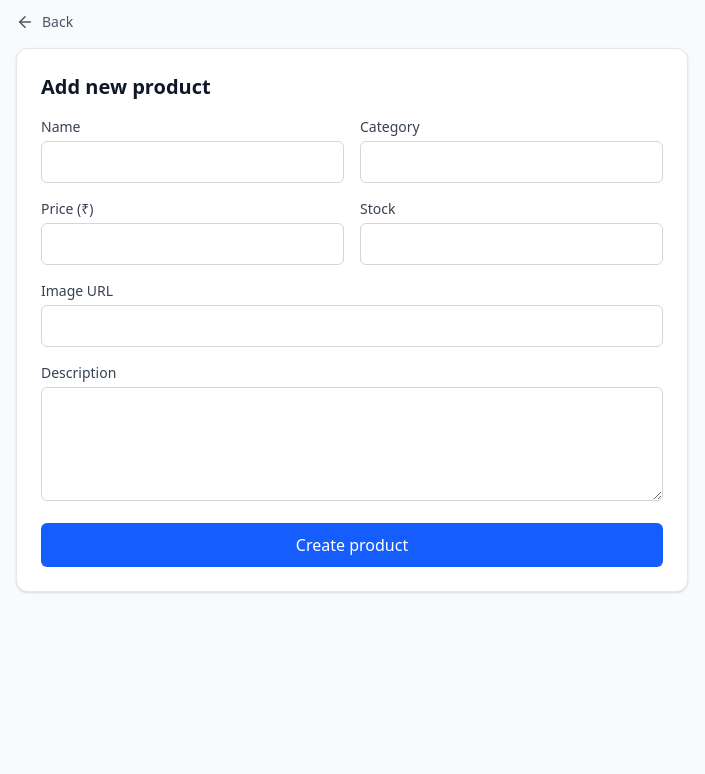
Scenario: ProductFormPage › add mode › validation › rejects an invalid price ("-5")
This screenshot has width=705, height=774.
Type "Monitor" into the field below "Name". click: (192,162)
box: top-left (41, 141), bottom-right (344, 183)
Type "electronics" into the field below "Category". click: (512,162)
box: top-left (360, 141), bottom-right (663, 183)
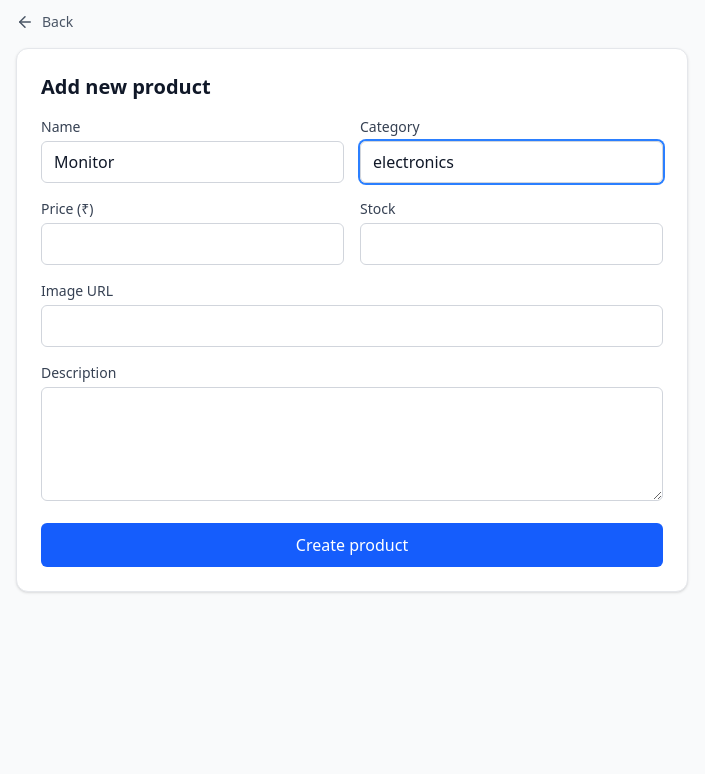
Type "-5" into the number field below "Price (₹)". click: (192,244)
box: top-left (41, 223), bottom-right (344, 265)
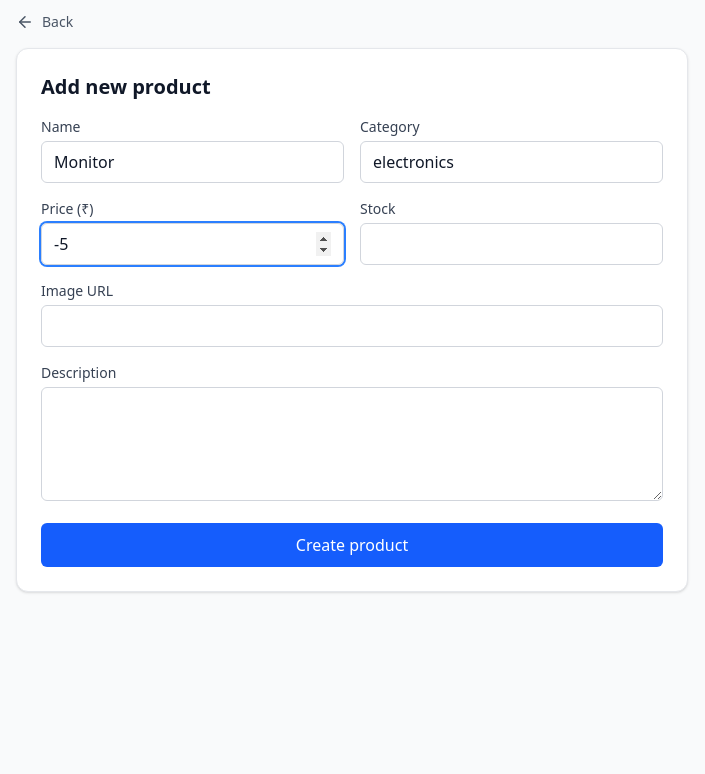
Type "7" into the number field below "Stock". click: (512,244)
box: top-left (360, 223), bottom-right (663, 265)
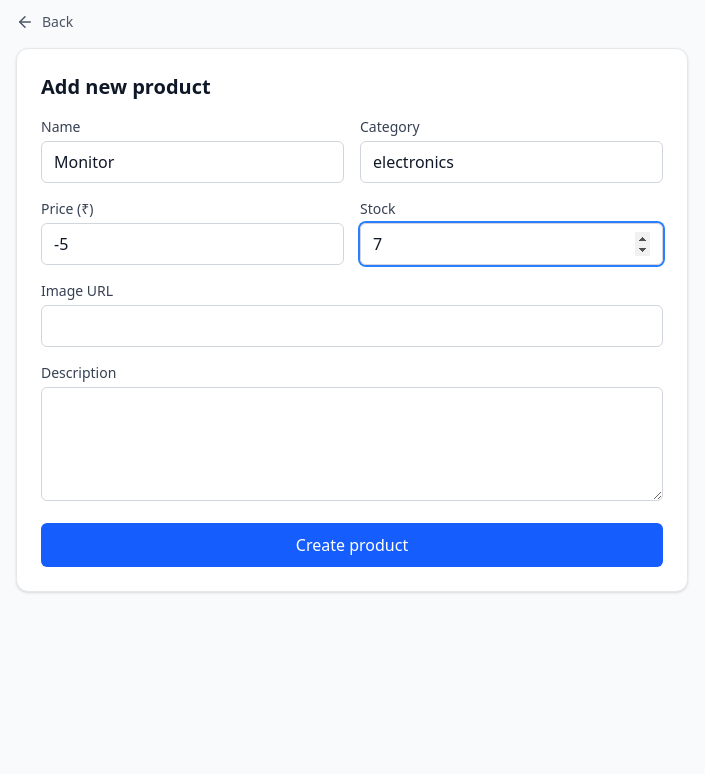
Type "https://img.test/monitor.png" into the field below "Image URL". click: (352,326)
box: top-left (41, 305), bottom-right (663, 347)
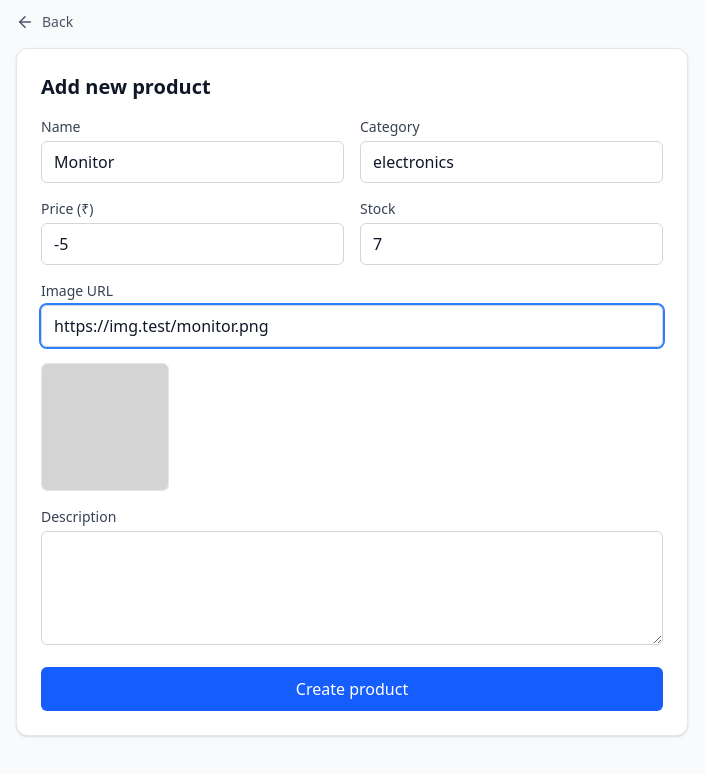
Type "A 24 inch monitor" into the text box. click: (352,588)
box: top-left (41, 531), bottom-right (663, 645)
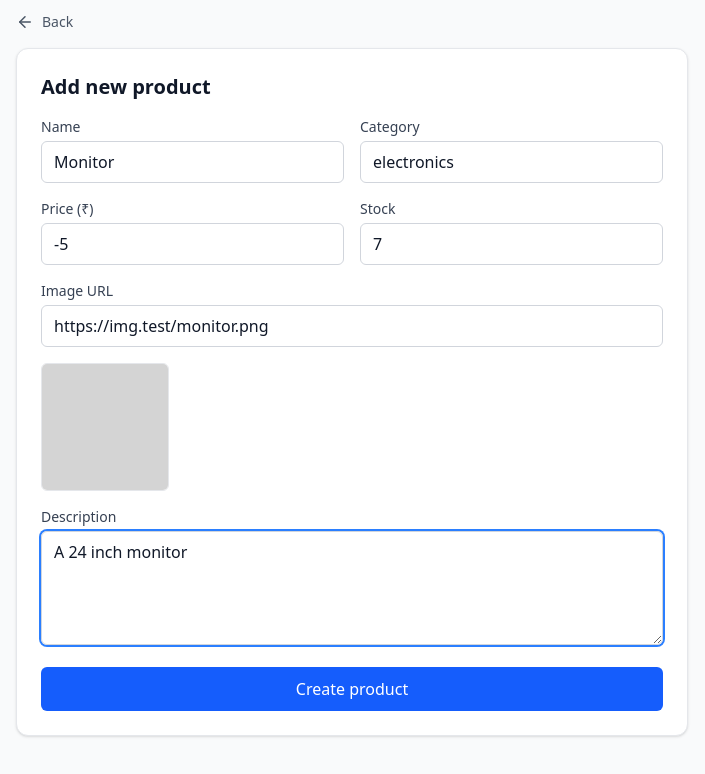
Click the button "Create product". click: (352,689)
box: top-left (41, 667), bottom-right (663, 711)
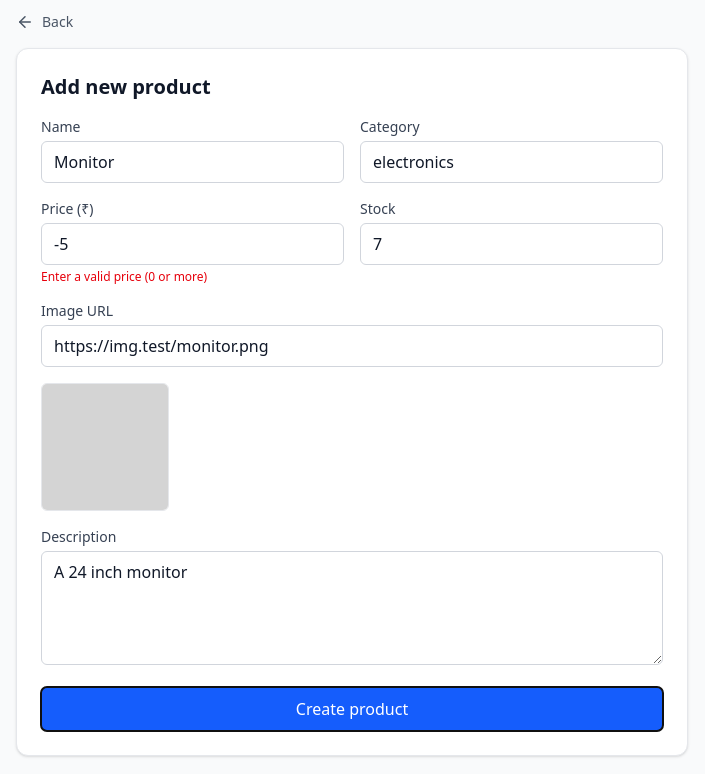
Result: the text "Enter a valid price (0 or more)" is shown at top-left (41, 268), bottom-right (207, 285)
